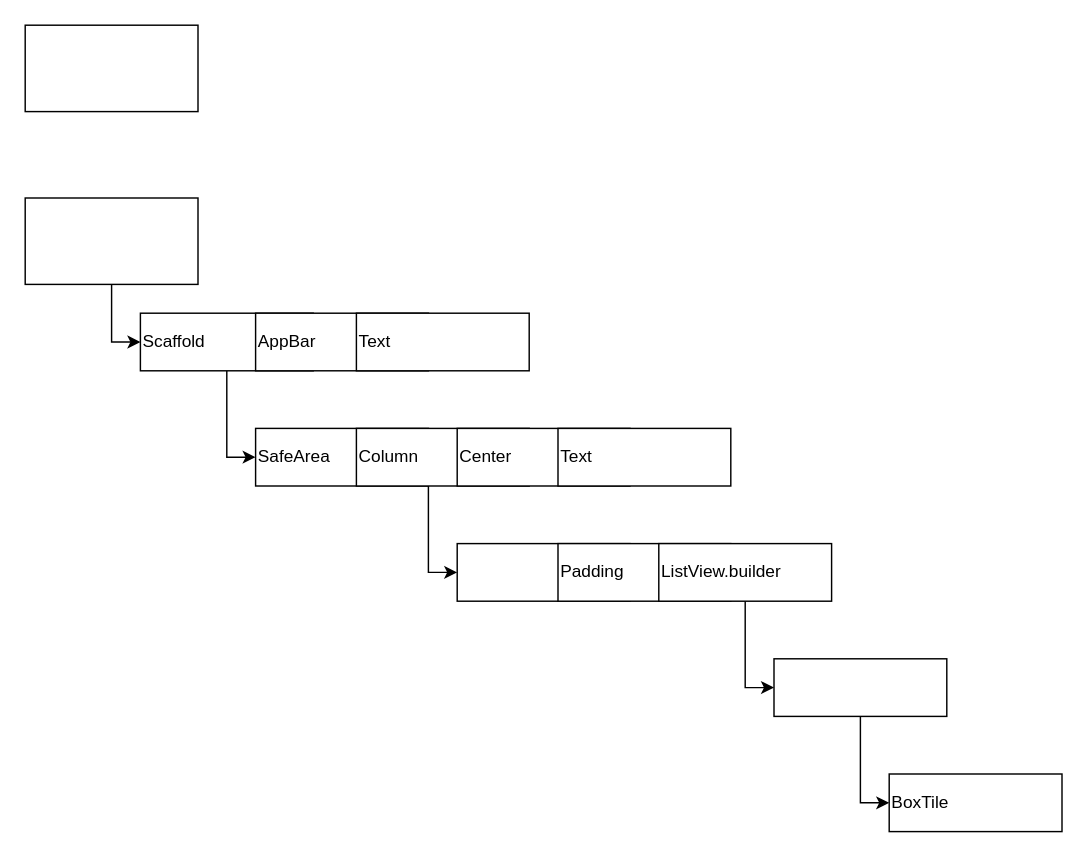
This 1087x857 diagram has some shape labels left out. The centre of each missing label's shape, as x and y in pixels:
"BoxTileCard" belongs at (x=860, y=686).
"Expanded" belongs at (x=543, y=571).
"home_page.dart" belongs at (x=111, y=240).
"main.dart" belongs at (x=111, y=68).
